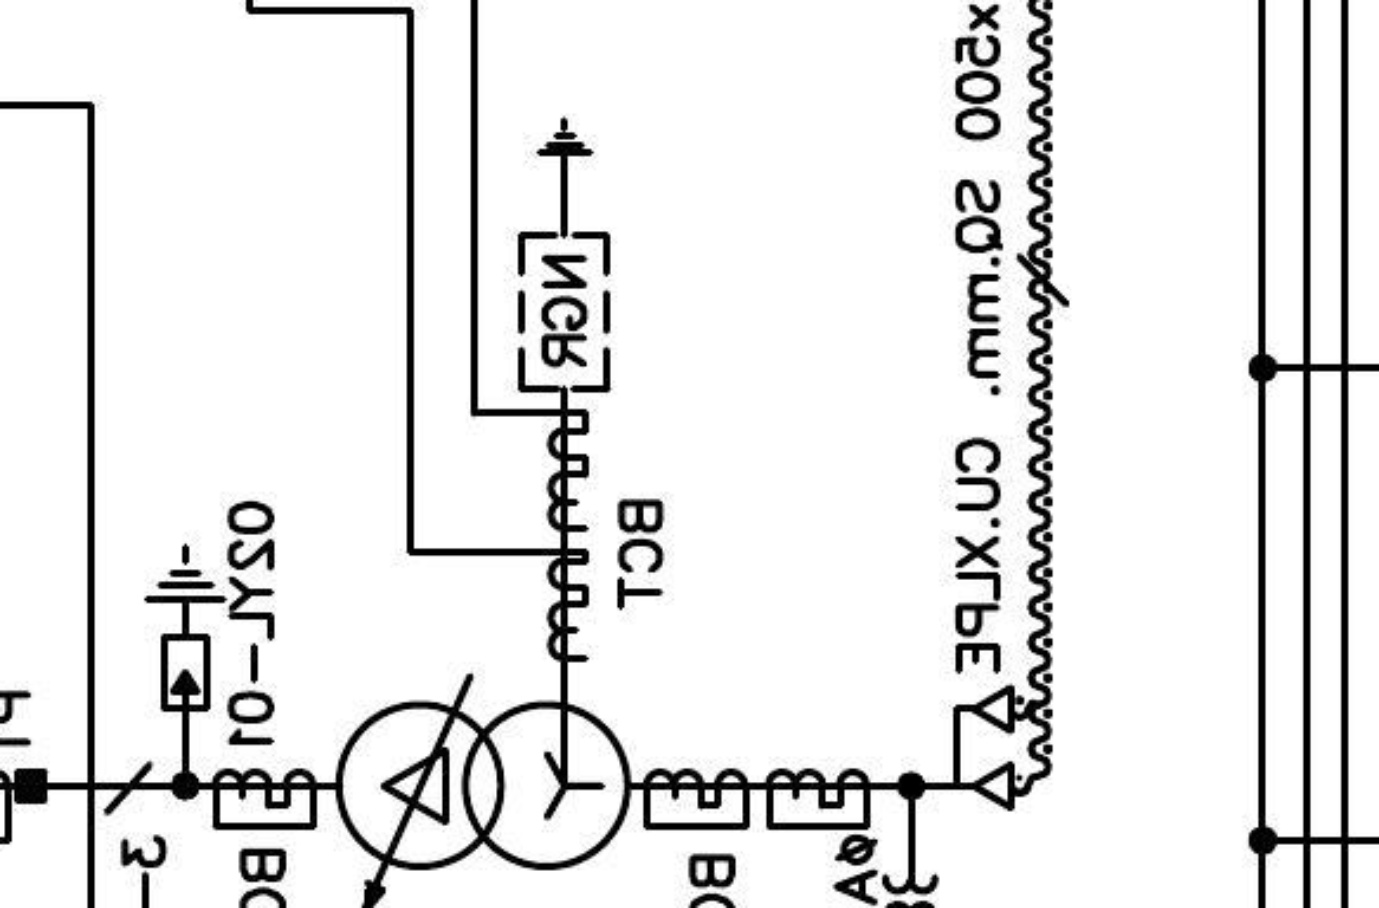11522_tx_dyn1: (334, 699, 633, 873)
115_la: (142, 541, 229, 713)
NGR_future: (517, 115, 612, 394)
terminator_double: (951, 684, 1015, 812)
